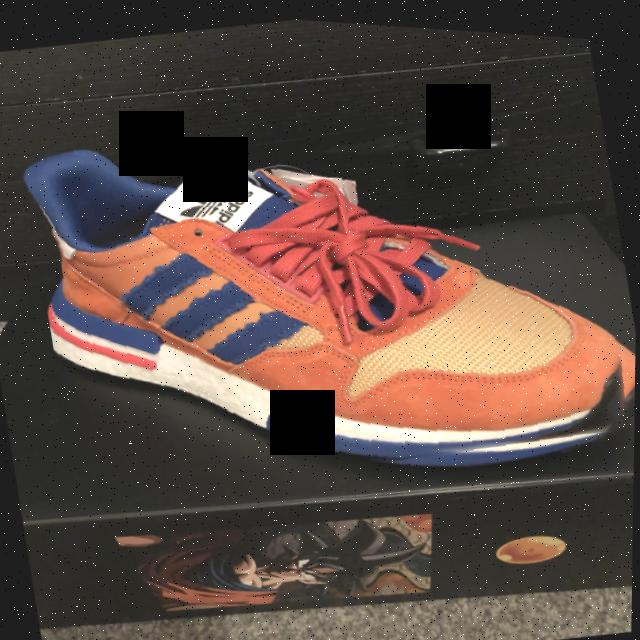shoe: (18, 53, 639, 533)
